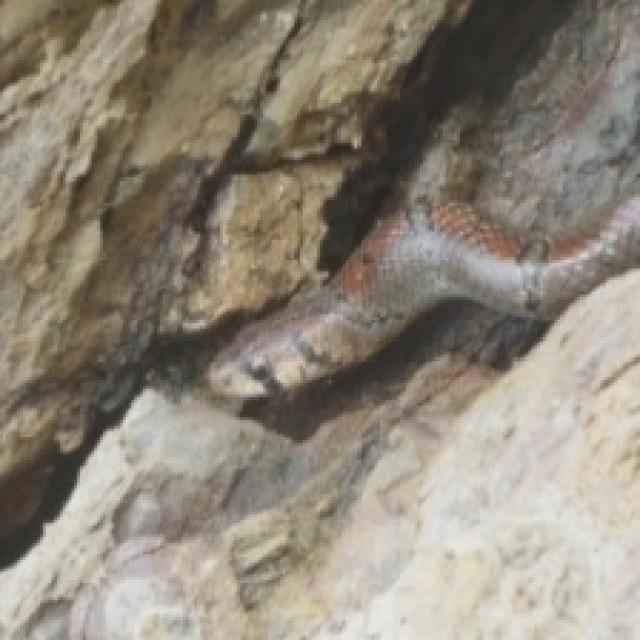northern short-headed snake: (209, 0, 637, 397), (209, 197, 637, 400)
